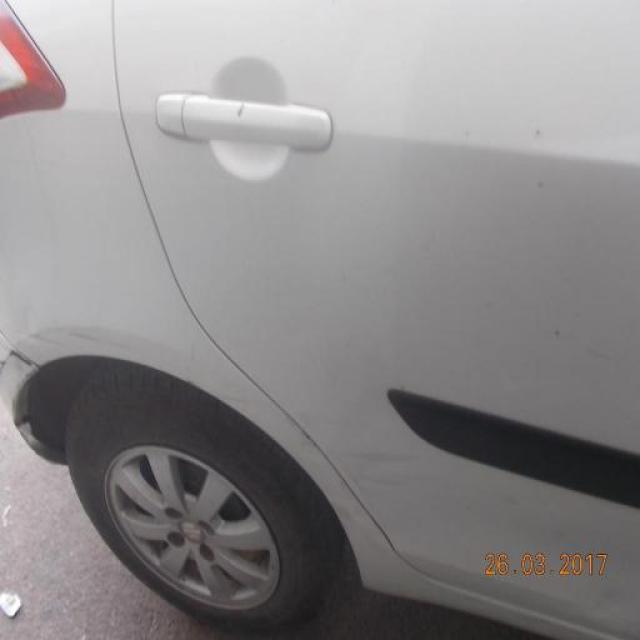scratch: (0, 340, 50, 377)
